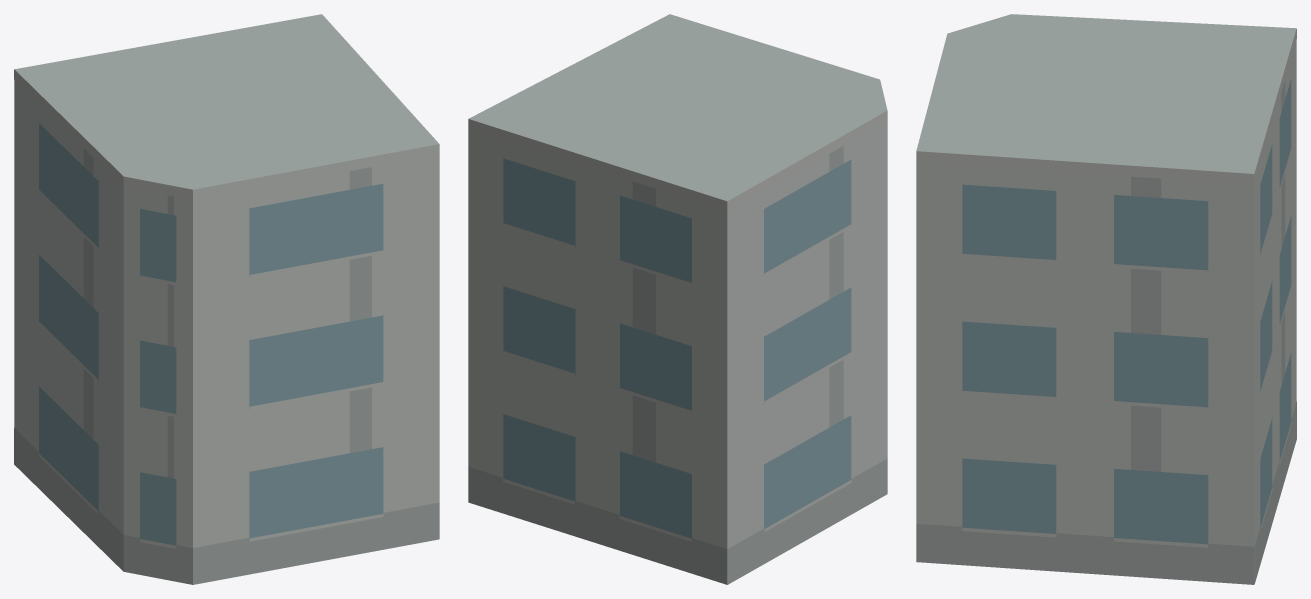
The model's file is survey-upis-32663982.glb.
3 views of the same model, side by side, from view 1: azimuth 30°, elevation 25°; view 2: azimuth 150°, elevation 25°; view 3: azimuth 270°, elevation 25° (orthographic). The views are drawn at different scales.
Parts seen in each view (by area): view 1: survey-upis-32663982.tmp; view 2: survey-upis-32663982.tmp; view 3: survey-upis-32663982.tmp.
Boxes of the visible parts, <box> form: survey-upis-32663982.tmp: <box>14,14,439,584</box>; survey-upis-32663982.tmp: <box>468,14,887,584</box>; survey-upis-32663982.tmp: <box>916,14,1296,584</box>.
Size of the model in its own units: 7.65 by 9.15 by 7.69.
